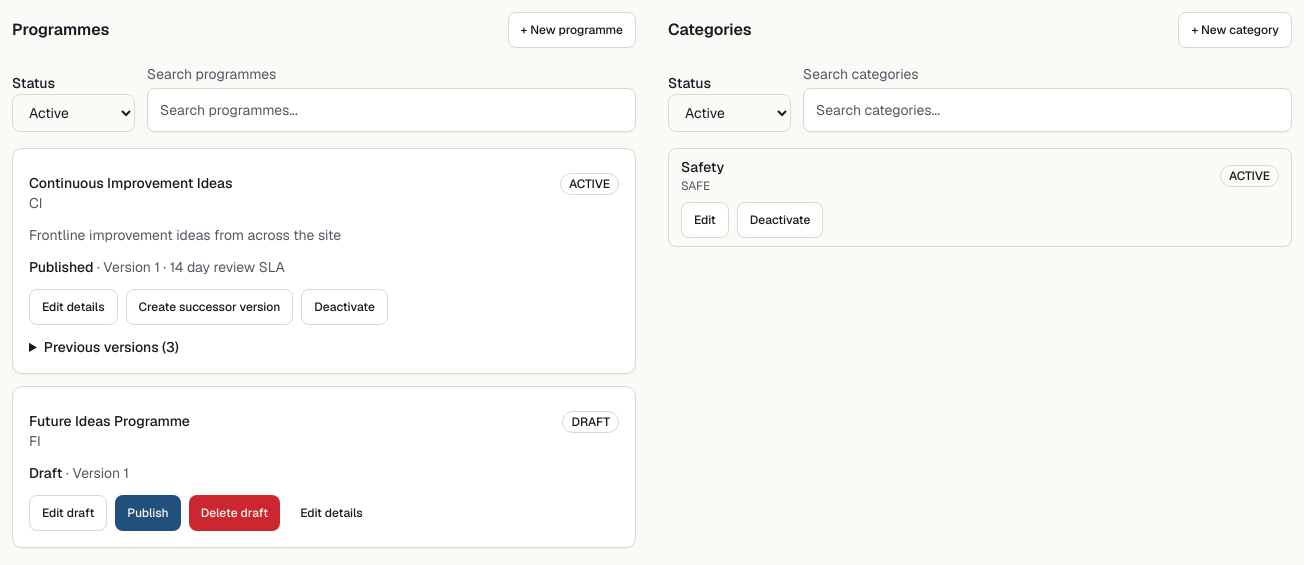
Scenario: ProgrammeManagement administration UX › filters programmes by search query
The width and height of the screenshot is (1304, 565).
Type "future" into the search field labelled "Search programmes". click: x=392, y=110
box: [147, 88, 636, 132]
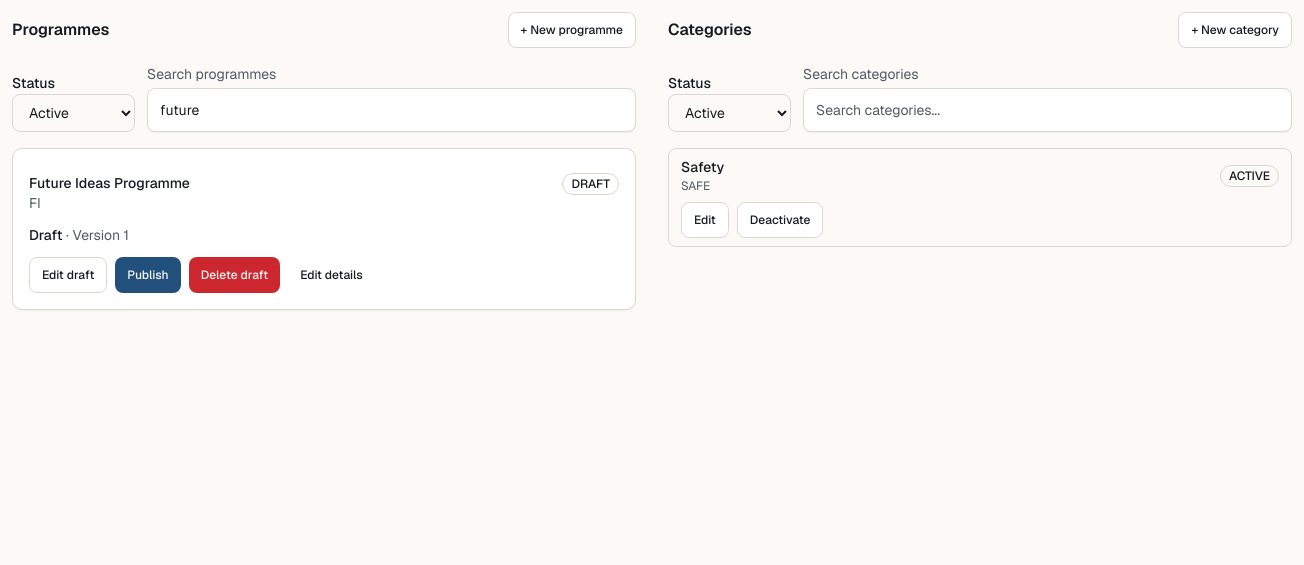
Expected: the element with test id "programme-card-prog-draft" is shown, [12, 148, 636, 310]
Result: the element with test id "programme-card-prog-active" is gone
Replace the text in the search field labelled "Search programmes" with "gai01". click: x=392, y=110
box: [147, 88, 636, 132]
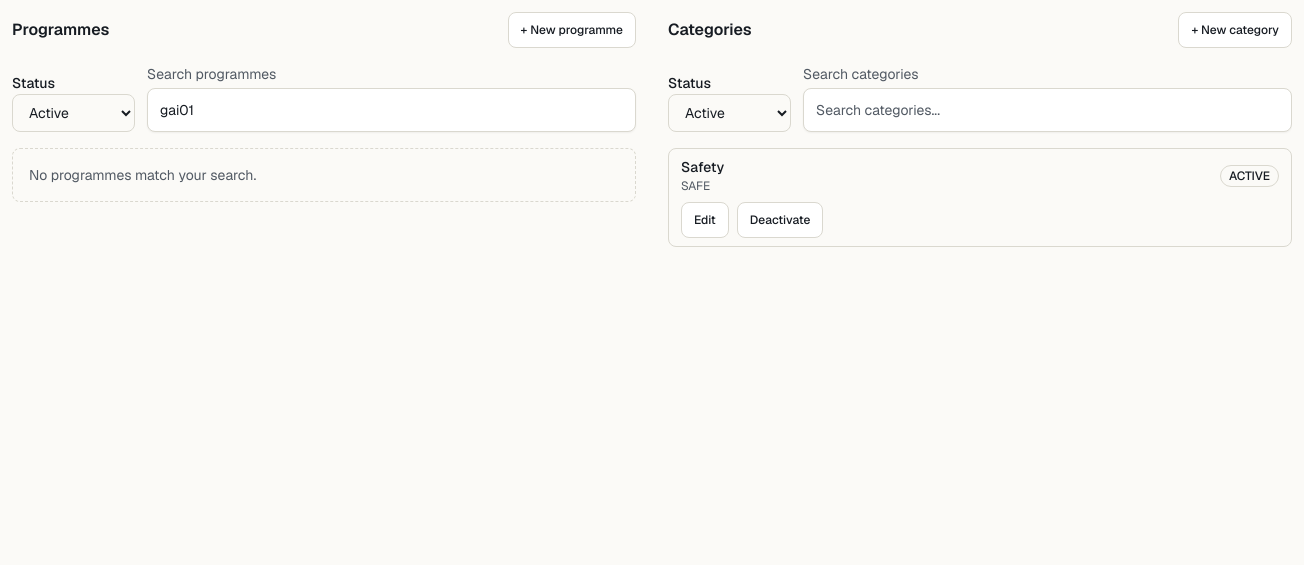
Select "All" in the dropdown labelled "Status" below "Search programmes". click: x=74, y=113
box: [12, 94, 135, 132]
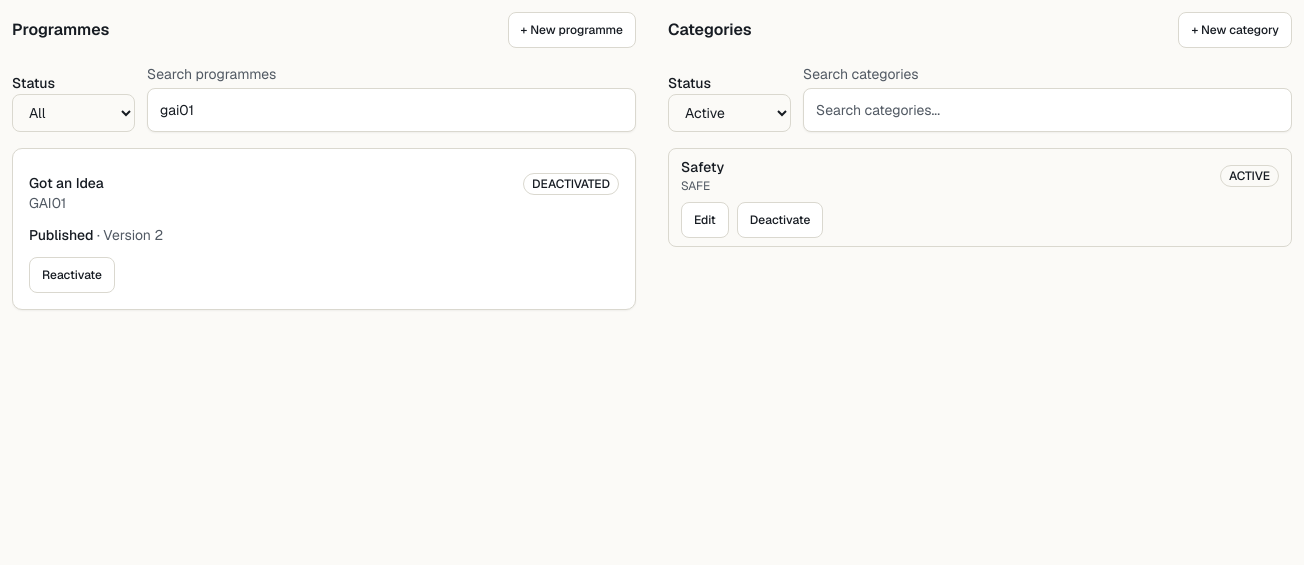
Result: the element with test id "programme-card-prog-deactivated" is shown at [12, 148, 636, 310]
